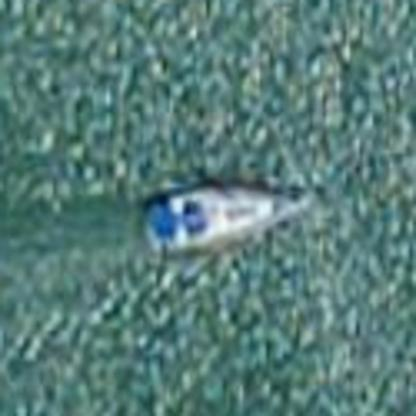ship: (120, 169, 322, 260)
